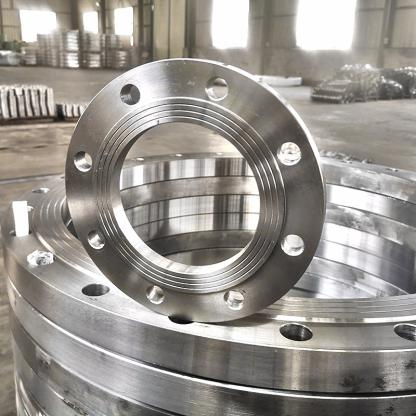FOD: (61, 55, 332, 326)
